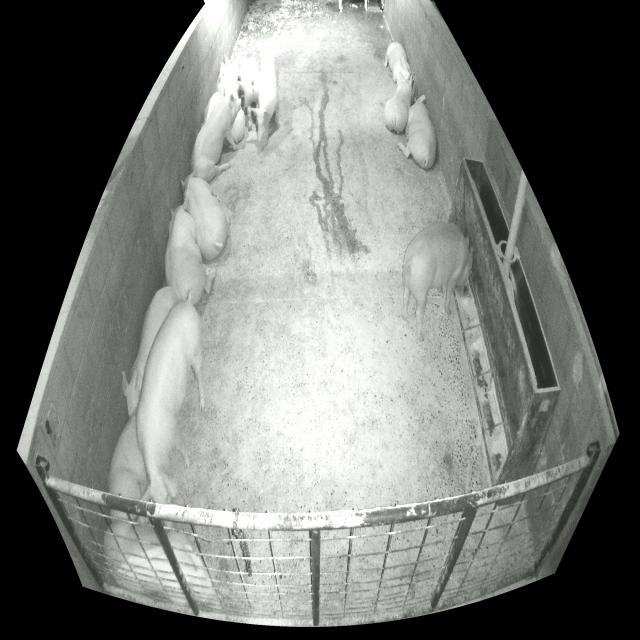pig: (137, 293, 205, 503), (104, 521, 216, 607), (402, 223, 473, 342), (122, 287, 175, 417), (190, 84, 241, 183), (181, 167, 228, 260), (165, 199, 205, 305), (108, 408, 147, 499), (397, 95, 436, 169), (251, 51, 278, 142), (385, 75, 415, 134), (240, 58, 261, 132), (384, 42, 414, 86), (215, 55, 241, 100), (201, 92, 220, 129)
